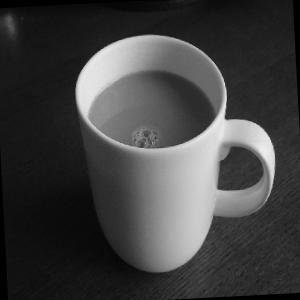coffee: (46, 16, 254, 288)
